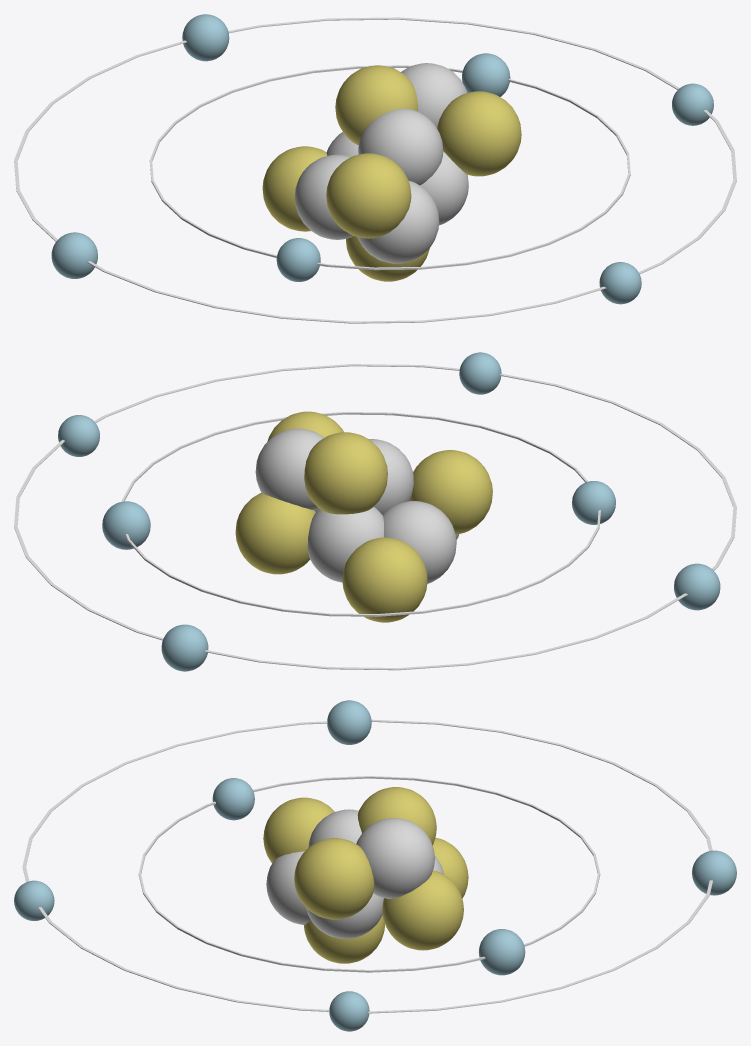
The model's file is bohr.fbx.
The picture shows the model from 3 angles, top to bottom: view 1: azimuth 30°, elevation 25°; view 2: azimuth 150°, elevation 25°; view 3: azimuth 270°, elevation 25°; orthographic projection. The views are drawn at different scales.
Parts seen in each view (by area): view 1: Sphere.007, Sphere, Circle.001, Sphere.010, Sphere.006, Circle, Sphere.013, Sphere.012, Sphere.008, Sphere.009, Sphere.003, Sphere.016 (+7 smaller); view 2: Sphere.012, Sphere.006, Circle.001, Sphere.002, Sphere.007, Sphere.008, Sphere.009, Sphere.001, Circle, Sphere.005, Sphere.016, Sphere.010 (+5 smaller); view 3: Sphere, Circle.001, Sphere.009, Sphere.002, Circle, Sphere.007, Sphere.006, Sphere.013, Sphere.011, Sphere.005, Sphere.015, Sphere.003 (+6 smaller).
Part boxes in pixels (x1,y1,x2,y2): Sphere.007: (326,153,411,238); Sphere: (437,91,521,176); Circle.001: (14,17,736,323); Sphere.010: (358,108,443,185); Sphere.006: (335,65,418,145); Circle: (149,65,630,270); Sphere.013: (357,180,439,263); Sphere.012: (262,146,327,231); Sphere.008: (294,154,353,239); Sphere.009: (401,63,467,127); Sphere.003: (420,151,468,225); Sphere.016: (182,14,229,61); Sphere.012: (342,537,427,622); Sphere.006: (304,432,387,514); Circle.001: (14,364,736,670); Sphere.002: (235,492,315,574); Sphere.007: (409,450,492,534); Sphere.008: (382,501,456,583); Sphere.009: (255,428,324,510); Sphere.001: (307,506,383,582); Circle: (121,412,600,616); Sphere.005: (102,501,150,549); Sphere.016: (161,624,208,671); Sphere.010: (368,439,413,514); Sphere: (294,838,374,919); Circle.001: (22,719,712,1013); Sphere.009: (356,818,434,898); Sphere.002: (382,870,463,950); Circle: (138,776,600,972); Sphere.007: (263,797,334,863); Sphere.006: (357,787,436,845); Sphere.013: (266,851,310,924); Sphere.011: (304,917,384,963); Sphere.005: (478,929,525,975); Sphere.015: (327,700,371,744); Sphere.003: (305,893,383,938).
Size of the model in its own units: 1777 by 478 by 1769.
